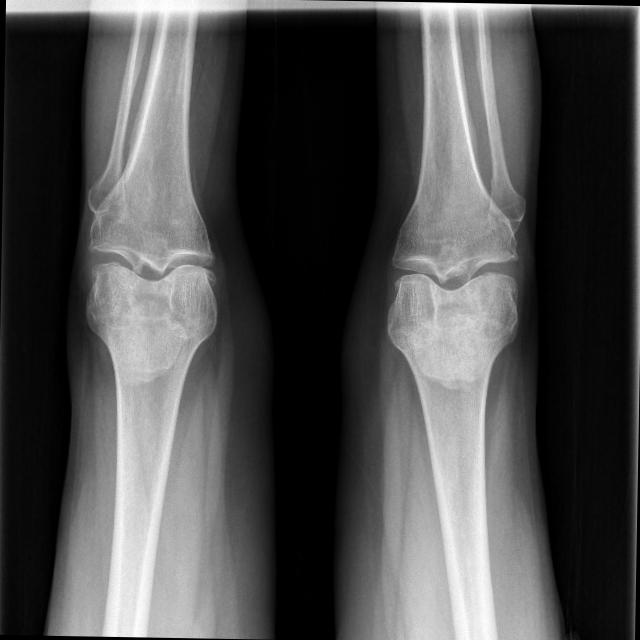Knee: (382, 195, 527, 372), (84, 187, 224, 359)
